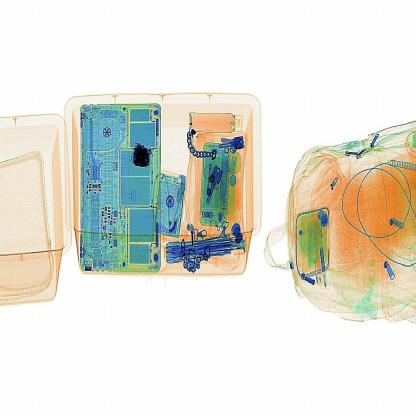scissors: (132, 140, 156, 178)
